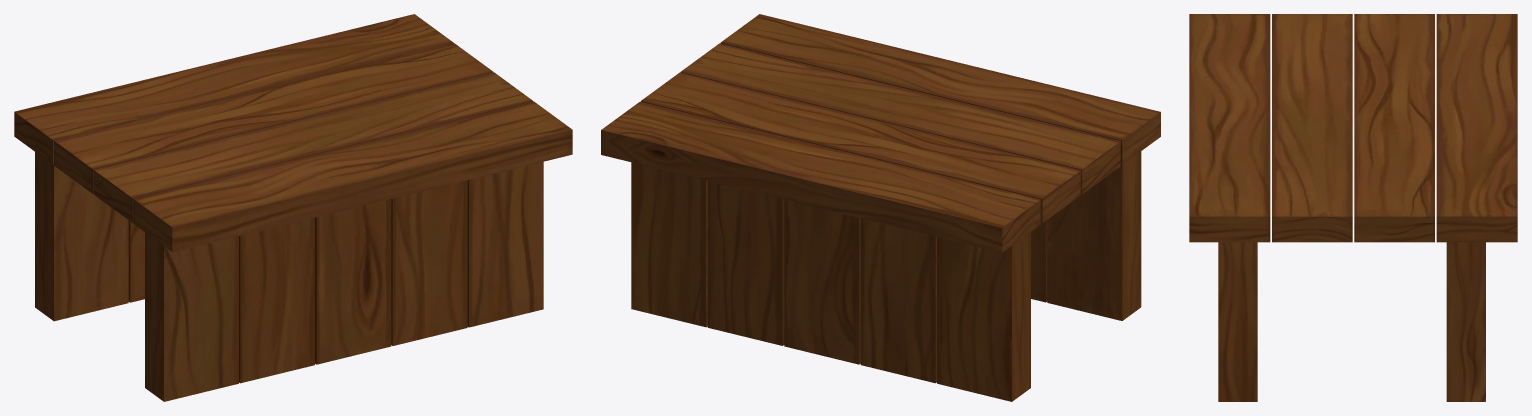
Rendered from Table.fbx.
3 renders of one model, left to right at view 1: azimuth 30°, elevation 25°; view 2: azimuth 150°, elevation 25°; view 3: azimuth 270°, elevation 25°, orthographic. The views are drawn at different scales.
Visible parts, largest first — view 1: Table; view 2: Table; view 3: Table.
Boxes of the visible parts, <box> form: Table: <box>14,14,572,401</box>; Table: <box>601,14,1160,401</box>; Table: <box>1189,14,1517,401</box>.
Bounding box in the file's own units: 199 × 88.49 × 136.
